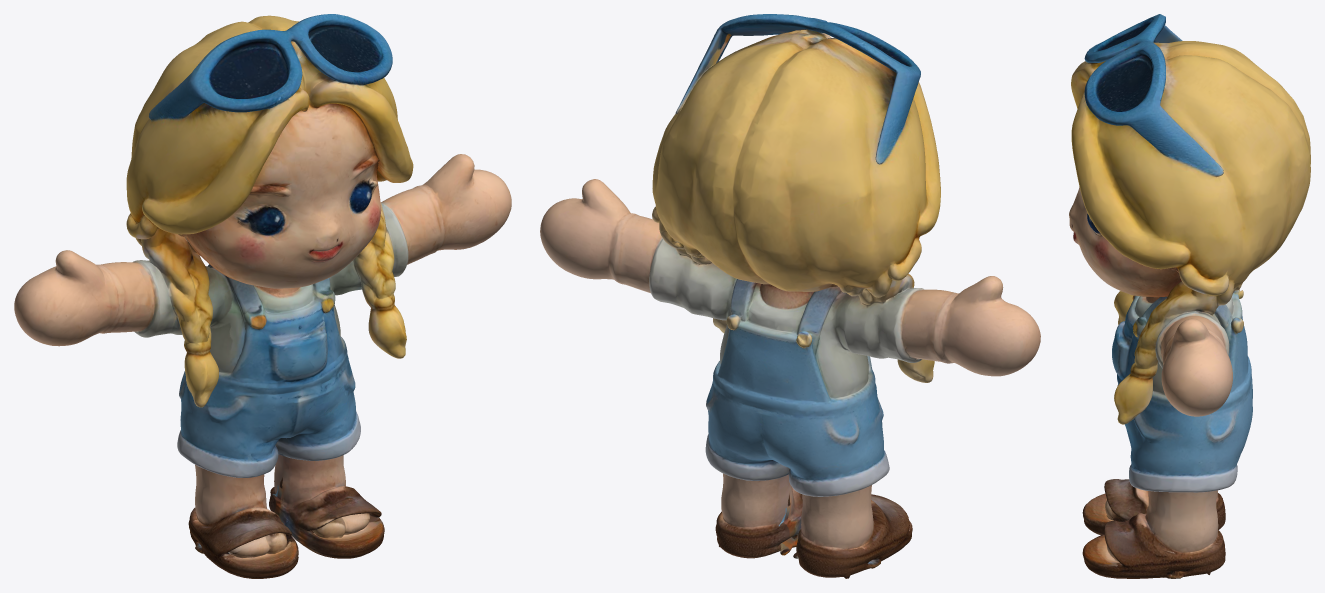
The model's file is kristen.glb.
3 views of the same model, side by side, from view 1: azimuth 30°, elevation 25°; view 2: azimuth 150°, elevation 25°; view 3: azimuth 270°, elevation 25° (orthographic). The views are drawn at different scales.
Visible parts, largest first — view 1: kristen; view 2: kristen; view 3: kristen.
Boxes of the visible parts, left/top/right/bottom form: kristen: left=14, top=14, right=511, bottom=578; kristen: left=540, top=14, right=1040, bottom=578; kristen: left=1069, top=14, right=1310, bottom=578.
Size of the model in its own units: 0.9821 by 0.9999 by 0.4298.
Materials: 1 (1 with a texture image).
